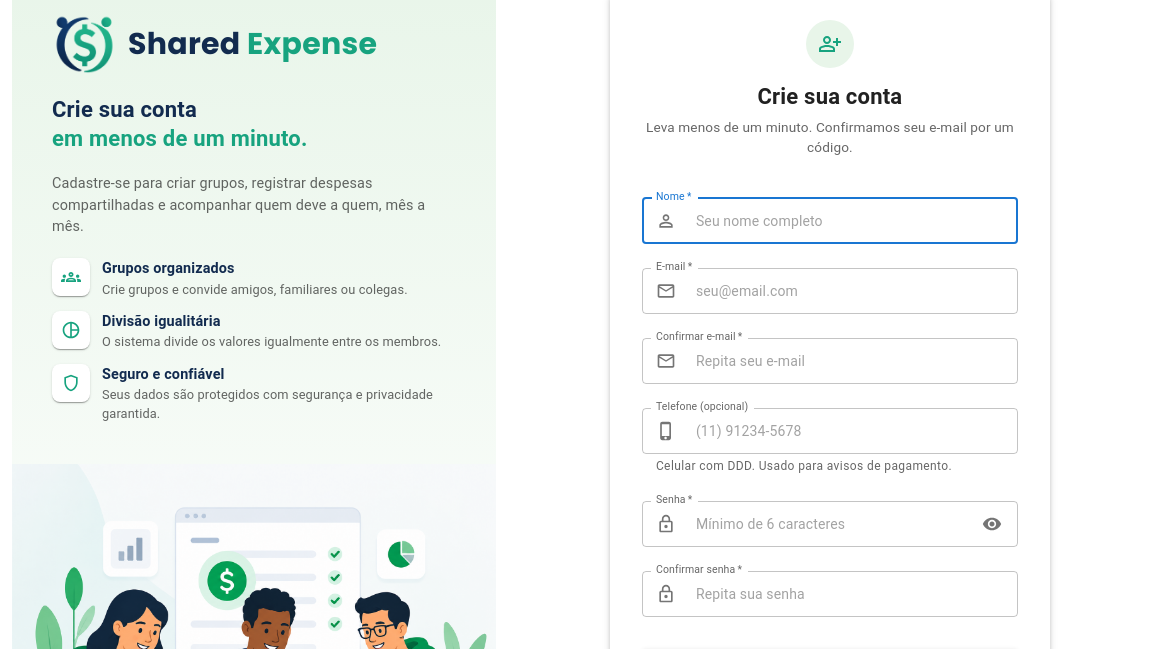
Test case: RegisterPage › maps a 422 from the API back onto the offending field
The image size is (1164, 649).
Type "Maria Souza" into the field labelled "Nome *" at (851,221), box [684,201,1018,241]
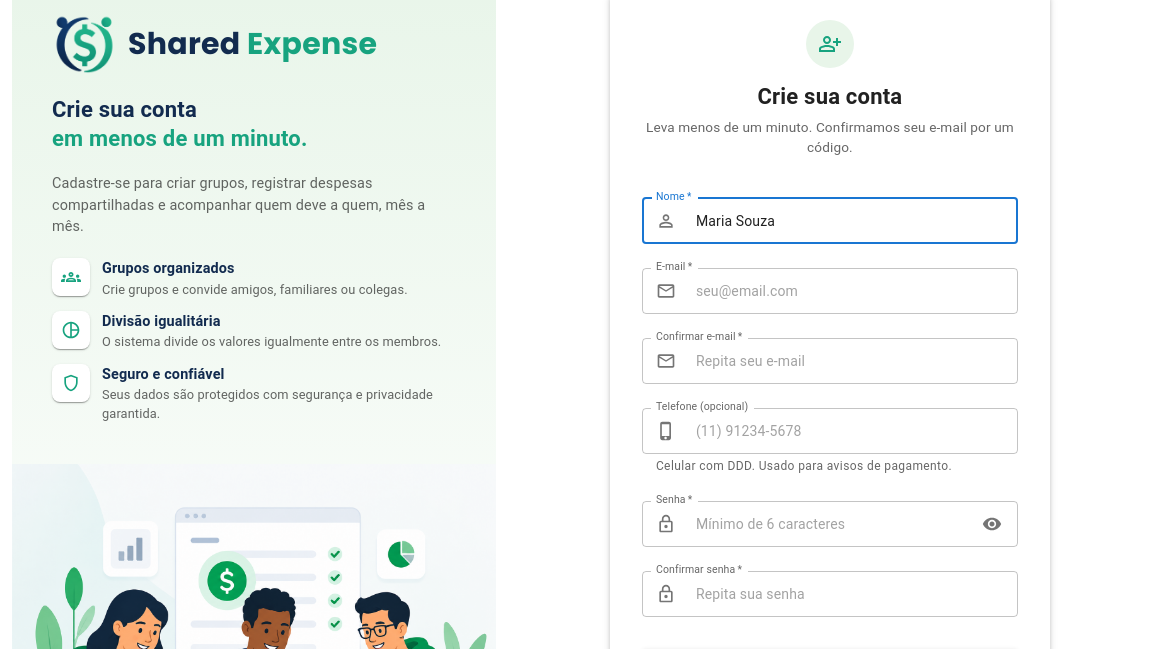
Type "maria@example.com" into the field labelled "E-mail *" at (851,291), box [684,271,1018,311]
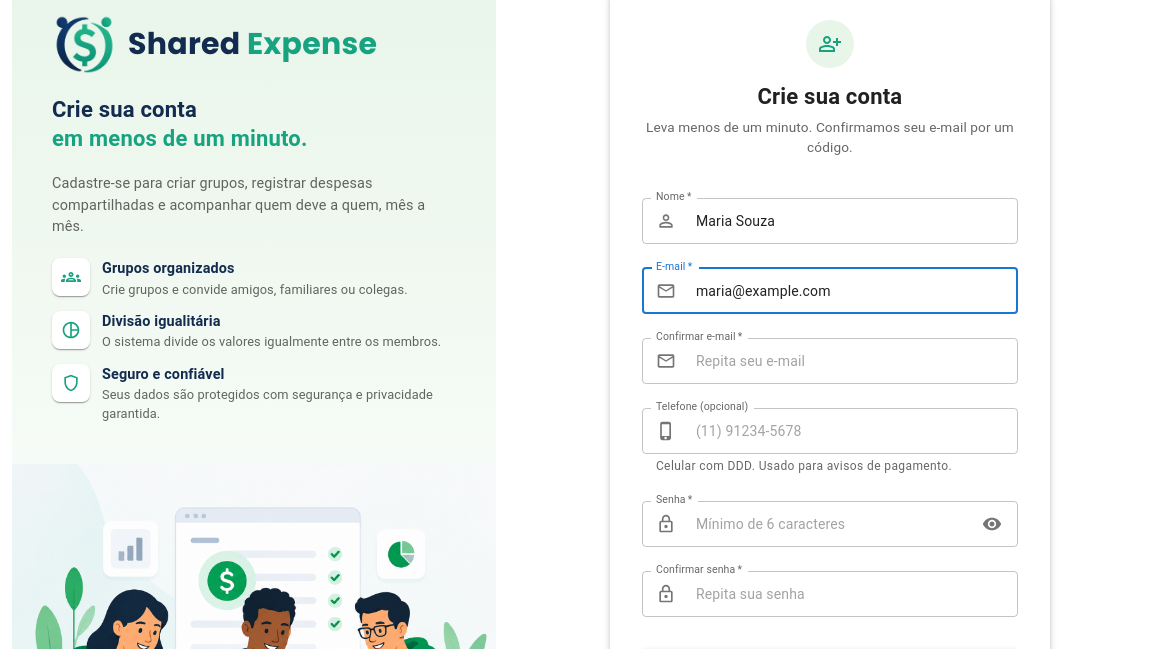
Type "maria@example.com" into the field labelled "Confirmar e-mail *" at (851,361), box [684,341,1018,381]
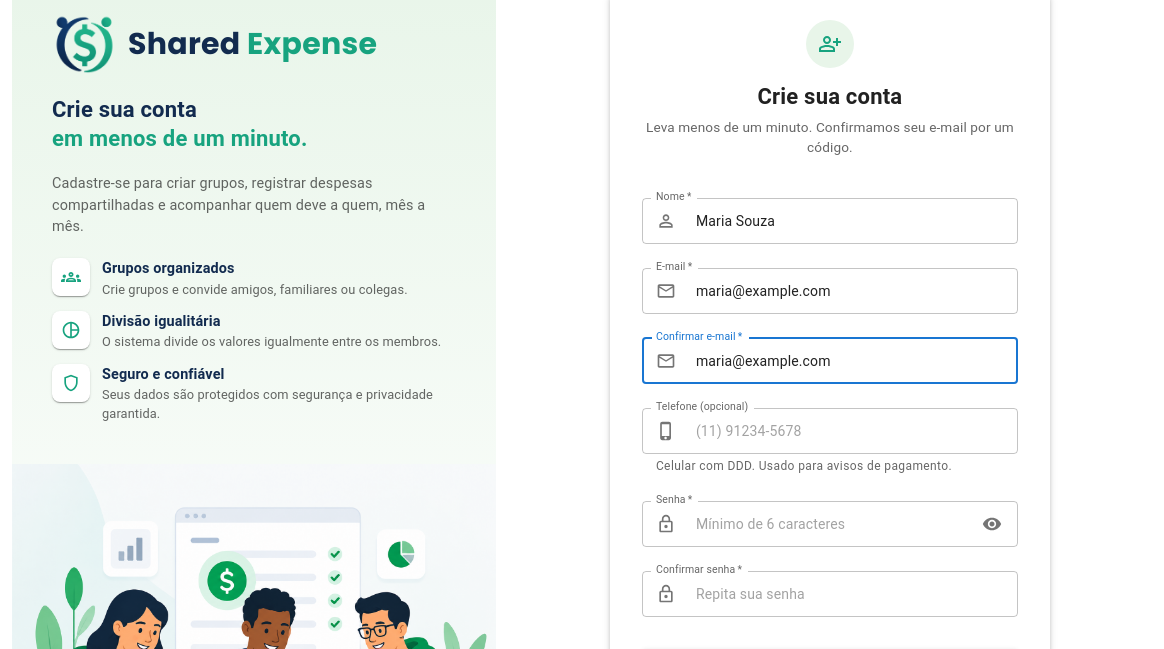
Type "senha-forte-123" into the password field labelled "Senha *" at (826,524), box [684,504,969,544]
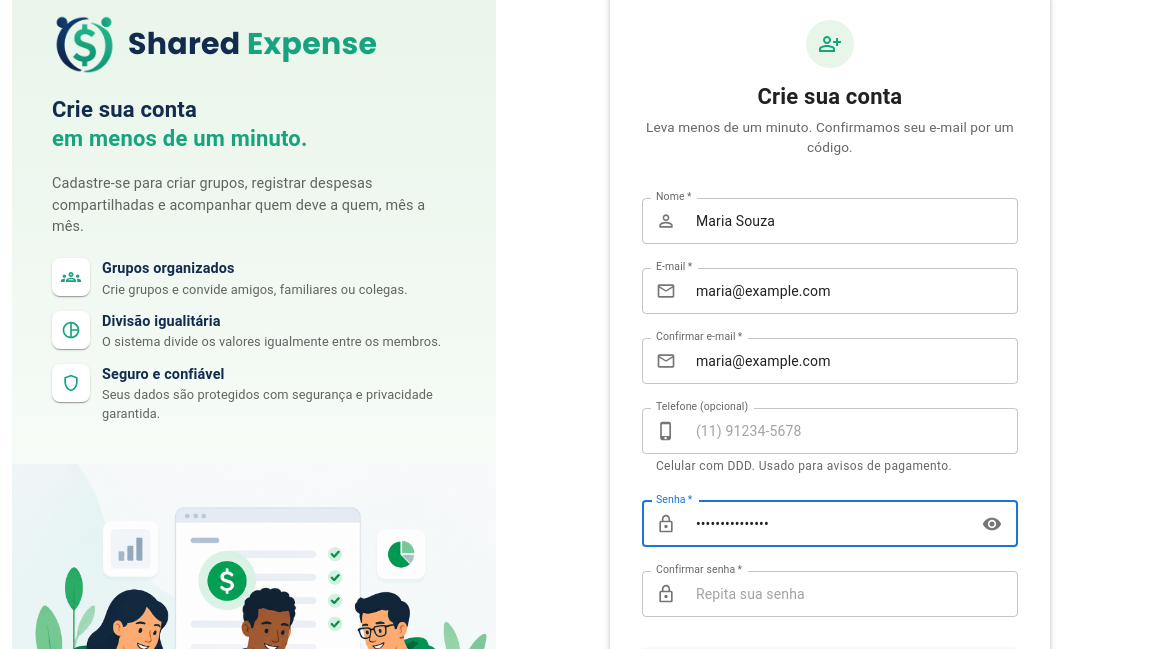
Type "senha-forte-123" into the password field labelled "Confirmar senha *" at (851,594), box [684,574,1018,614]
(page scrolled)
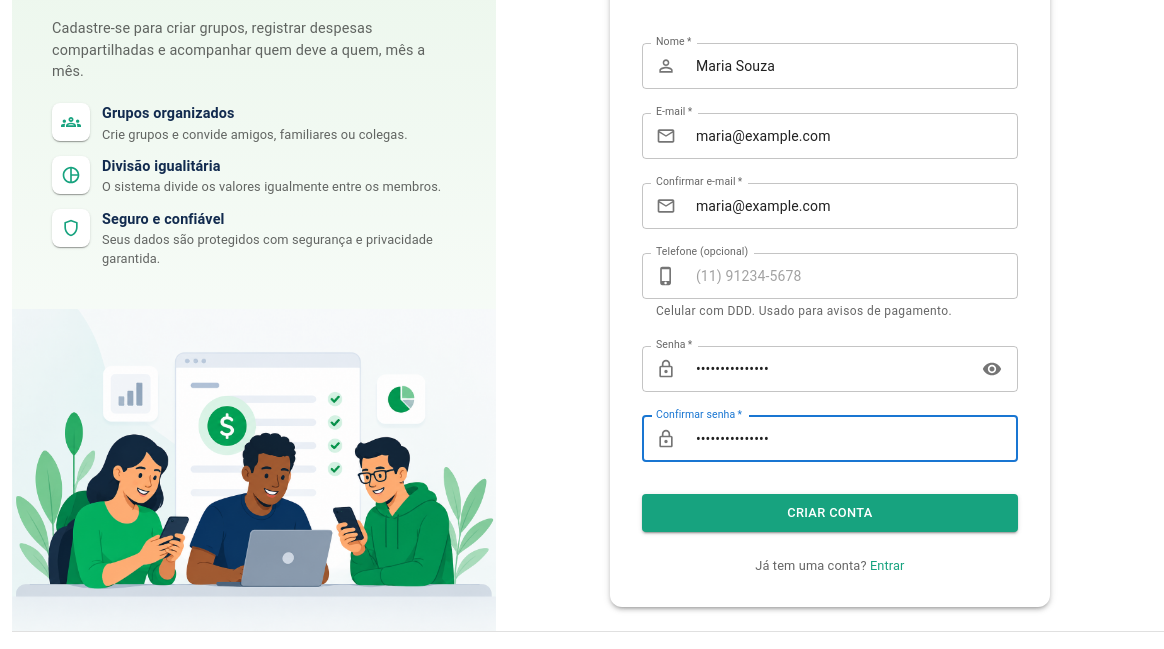
Click the button "Criar conta" at (830,513), box [642,494,1018,532]
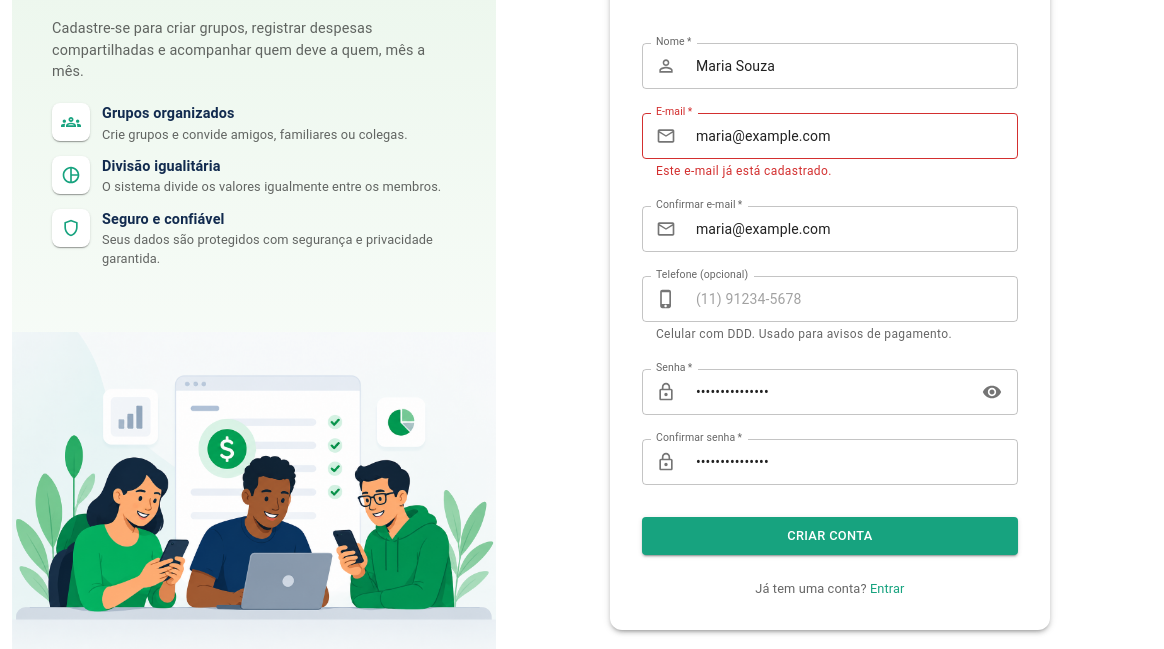
Expected: the button "Criar conta" is shown, [642,517,1018,555]
Result: the text "Este e-mail já está cadastrado." is shown at [656,164,832,178]
